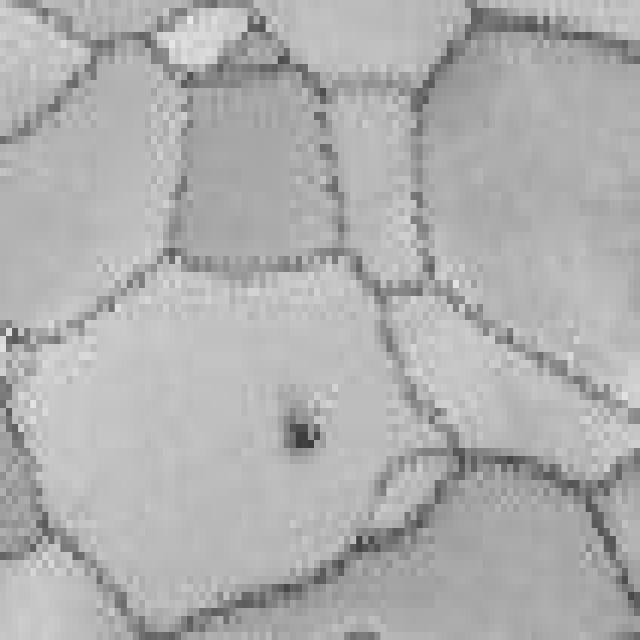good_void: (272, 378, 336, 463)
